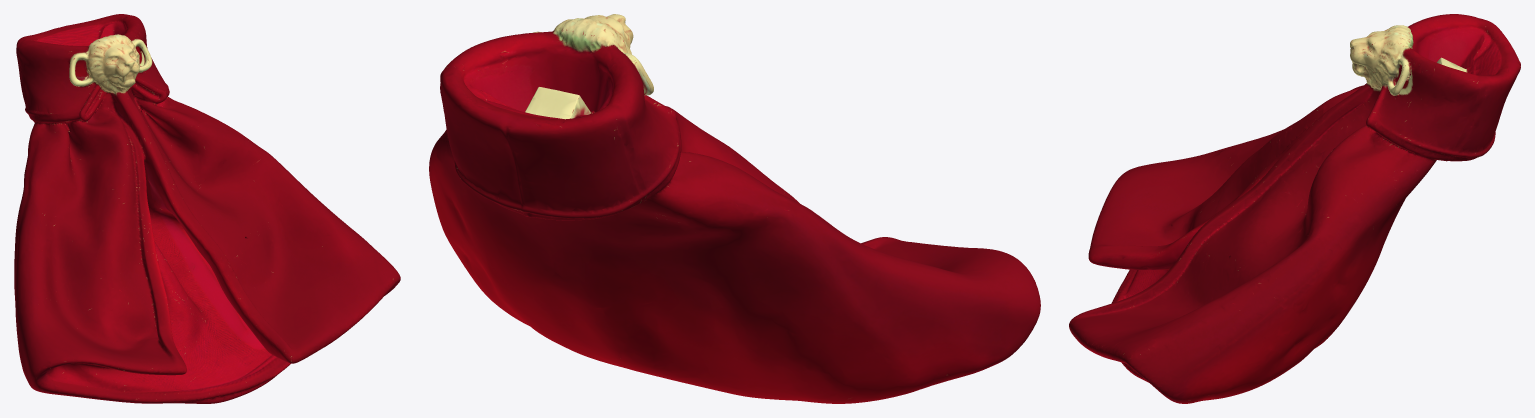
File: raw.glb
3 views of the same model, side by side, from view 1: azimuth 30°, elevation 25°; view 2: azimuth 150°, elevation 25°; view 3: azimuth 270°, elevation 25° (orthographic). The views are drawn at different scales.
Visible parts, largest first — view 1: Mesh_0; view 2: Mesh_0; view 3: Mesh_0.
Part boxes in pixels (bbox=[...]): Mesh_0: bbox=[14, 14, 400, 403]; Mesh_0: bbox=[429, 14, 1040, 403]; Mesh_0: bbox=[1069, 14, 1520, 403].
Size of the model in its own units: 1.91 by 1.38 by 1.75.
1 material, 1 textured.
